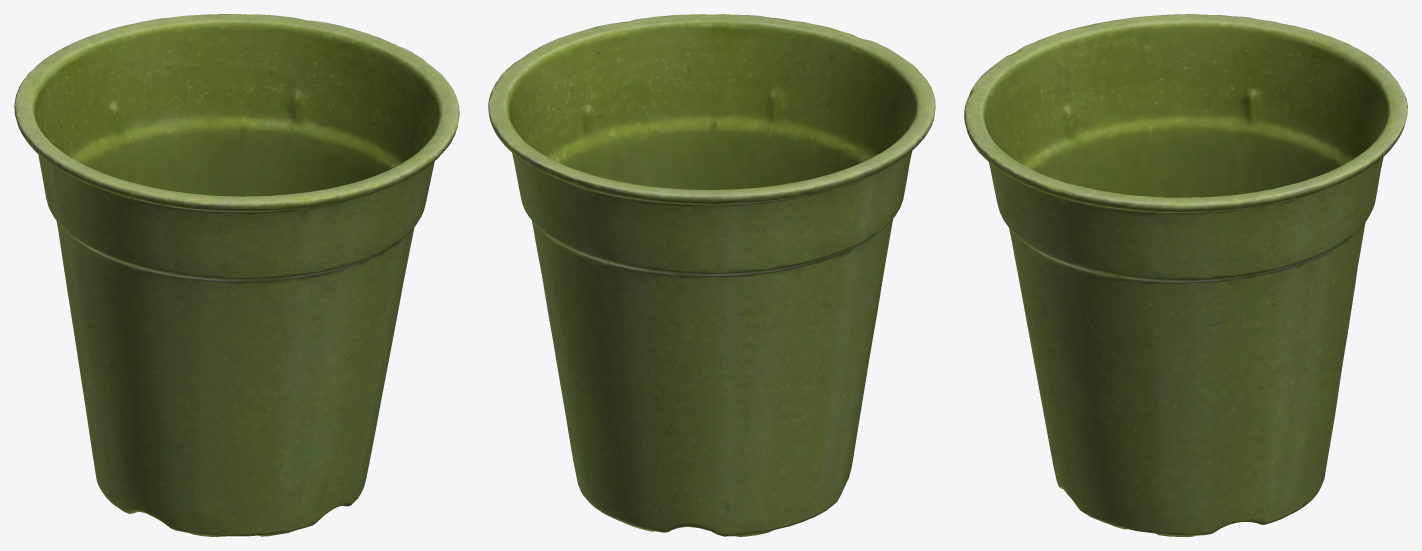
Rendered from Ecoforms_Planter_Pot_GP12AAvocado.glb.
3 views of the same model, side by side, from view 1: azimuth 30°, elevation 25°; view 2: azimuth 150°, elevation 25°; view 3: azimuth 270°, elevation 25° (orthographic).
Parts seen in each view (by area): view 1: model.obj; view 2: model.obj; view 3: model.obj.
Part boxes in pixels (box(x1,y1,x2,y2)): model.obj: box(14, 14, 459, 536); model.obj: box(488, 14, 935, 536); model.obj: box(964, 14, 1407, 536).
Bounding box in the file's own units: 0.9976 × 0.9499 × 1.
Materials: 1 (1 with a texture image).
